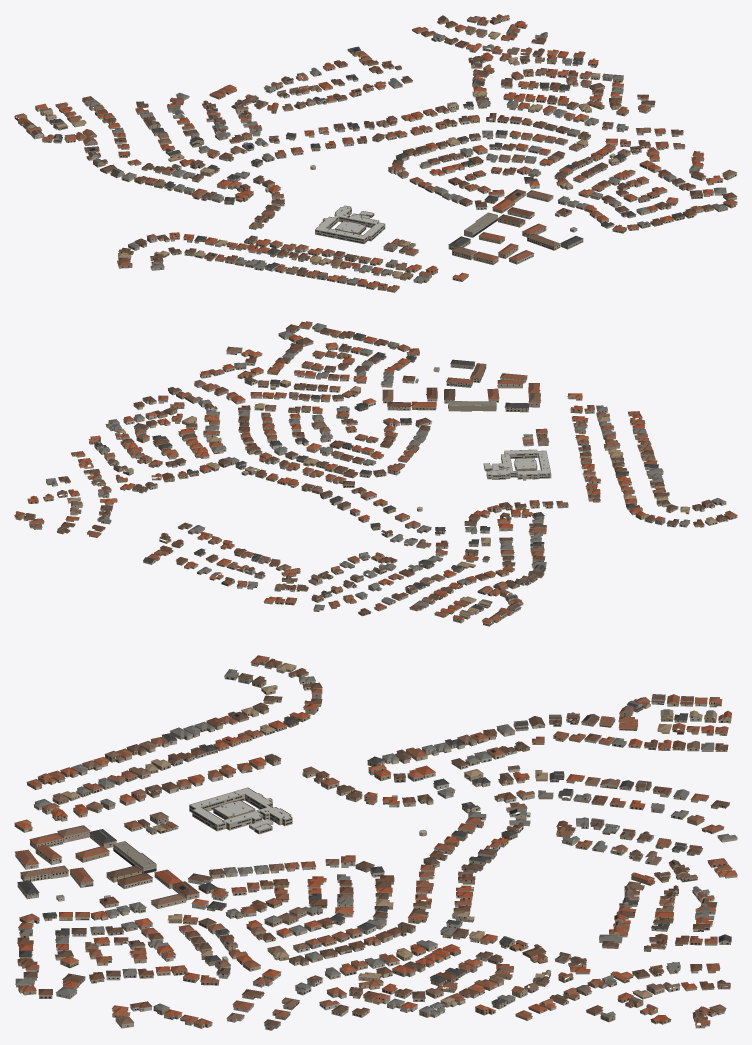
3 views of the same model, one above another, from view 1: azimuth 30°, elevation 25°; view 2: azimuth 150°, elevation 25°; view 3: azimuth 270°, elevation 25° (orthographic). The views are drawn at different scales.
Visible parts, largest first — view 1: buildings_r7_c6_lod0; view 2: buildings_r7_c6_lod0; view 3: buildings_r7_c6_lod0.
Part boxes in pixels (x1,y1,x2,y2): buildings_r7_c6_lod0: [14, 14, 737, 292]; buildings_r7_c6_lod0: [14, 321, 737, 626]; buildings_r7_c6_lod0: [14, 655, 737, 1030].
Size of the model in its own units: 961 by 52.34 by 809.
